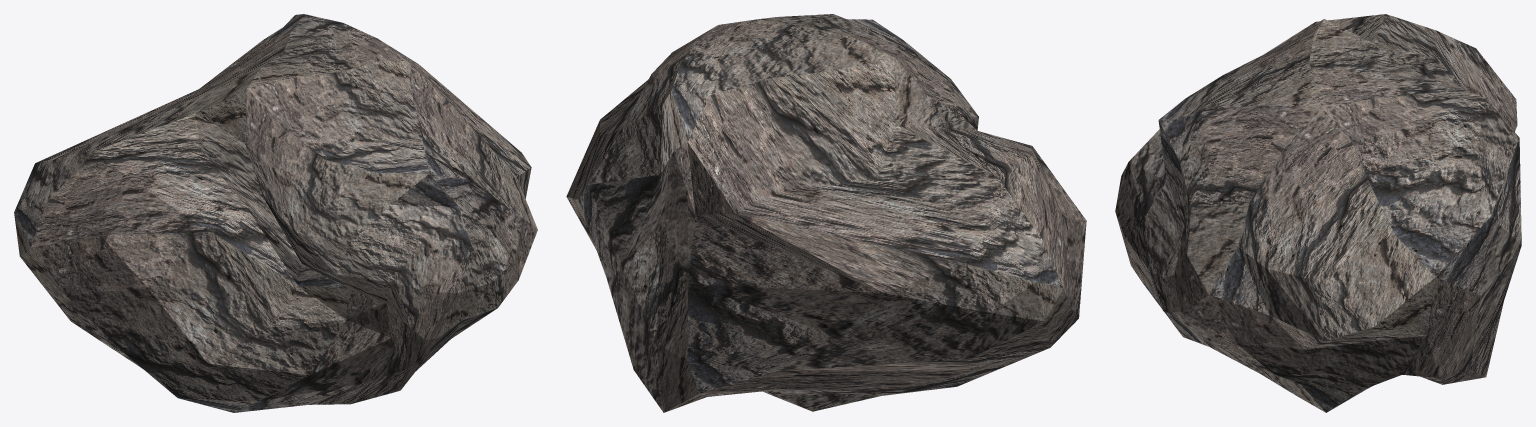
3 renders of one model, left to right at view 1: azimuth 30°, elevation 25°; view 2: azimuth 150°, elevation 25°; view 3: azimuth 270°, elevation 25°, orthographic. The views are drawn at different scales.
Visible parts, largest first — view 1: Platonic; view 2: Platonic; view 3: Platonic.
Part boxes in pixels (<box>): Platonic: <box>14,14,537,412</box>; Platonic: <box>566,14,1086,412</box>; Platonic: <box>1115,14,1521,412</box>.
Bounding box in the file's own units: 279 × 191 × 209.
Materials: 1 (1 with a texture image).
